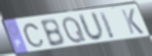B: (39, 17, 66, 48)
C: (22, 22, 45, 49)
I: (98, 10, 117, 41)
K: (120, 8, 146, 36)
Q: (62, 15, 88, 45)
U: (77, 11, 106, 43)
